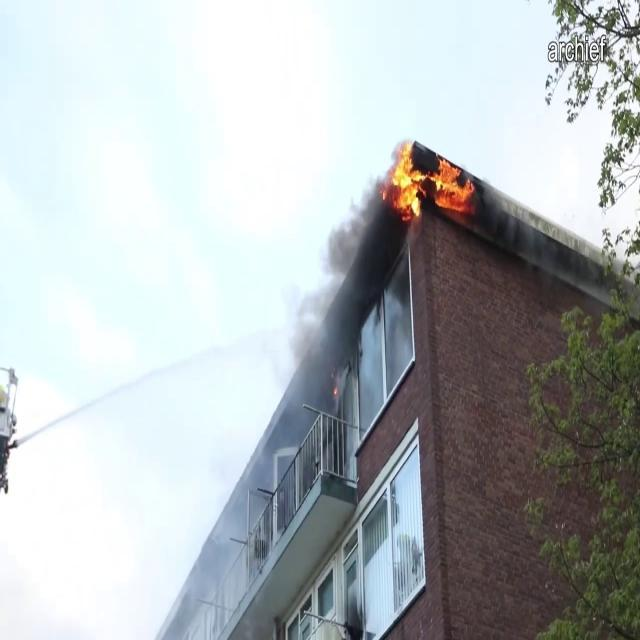Fire: (384, 142, 478, 226)
Smoke: (283, 159, 397, 432)
